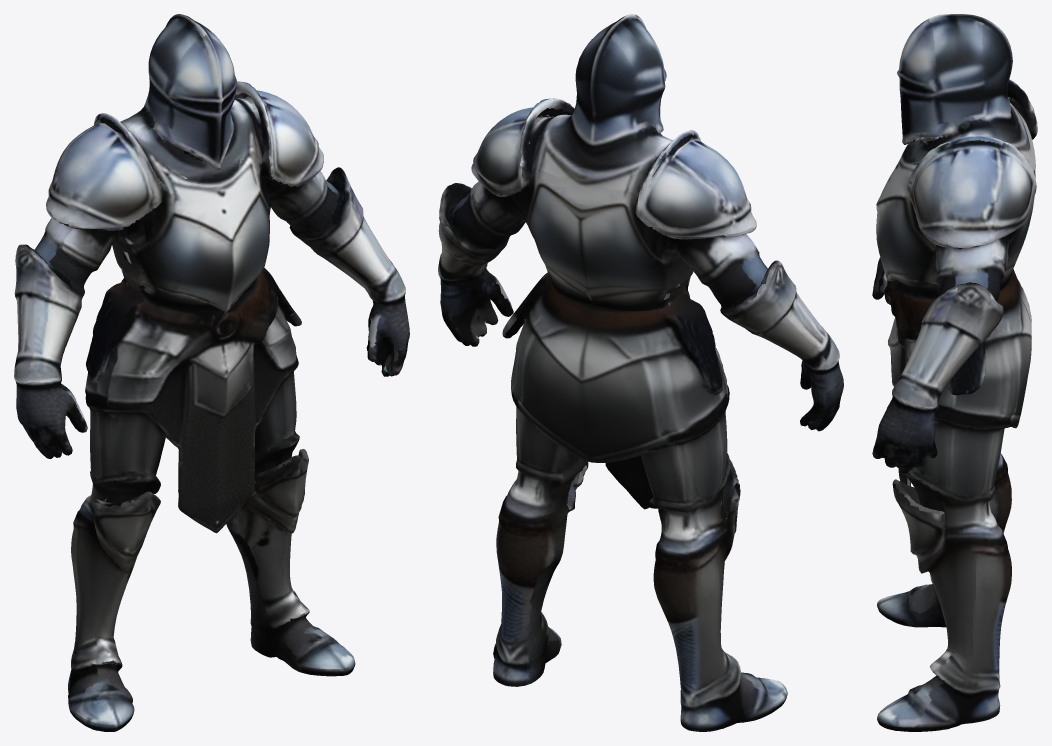
Rendered from knightT.gltf.
The picture shows the model from 3 angles, left to right: view 1: azimuth 30°, elevation 25°; view 2: azimuth 150°, elevation 25°; view 3: azimuth 270°, elevation 25°; orthographic projection. The views are drawn at different scales.
Parts seen in each view (by area): view 1: tmprfujs9nv.ply; view 2: tmprfujs9nv.ply; view 3: tmprfujs9nv.ply.
Part boxes in pixels (box(x1,y1,x2,y2)): tmprfujs9nv.ply: box(14, 14, 409, 731); tmprfujs9nv.ply: box(438, 14, 843, 731); tmprfujs9nv.ply: box(872, 14, 1037, 731).
Size of the model in its own units: 1.22 by 1.99 by 0.4552.
Materials: 1 (1 with a texture image).
